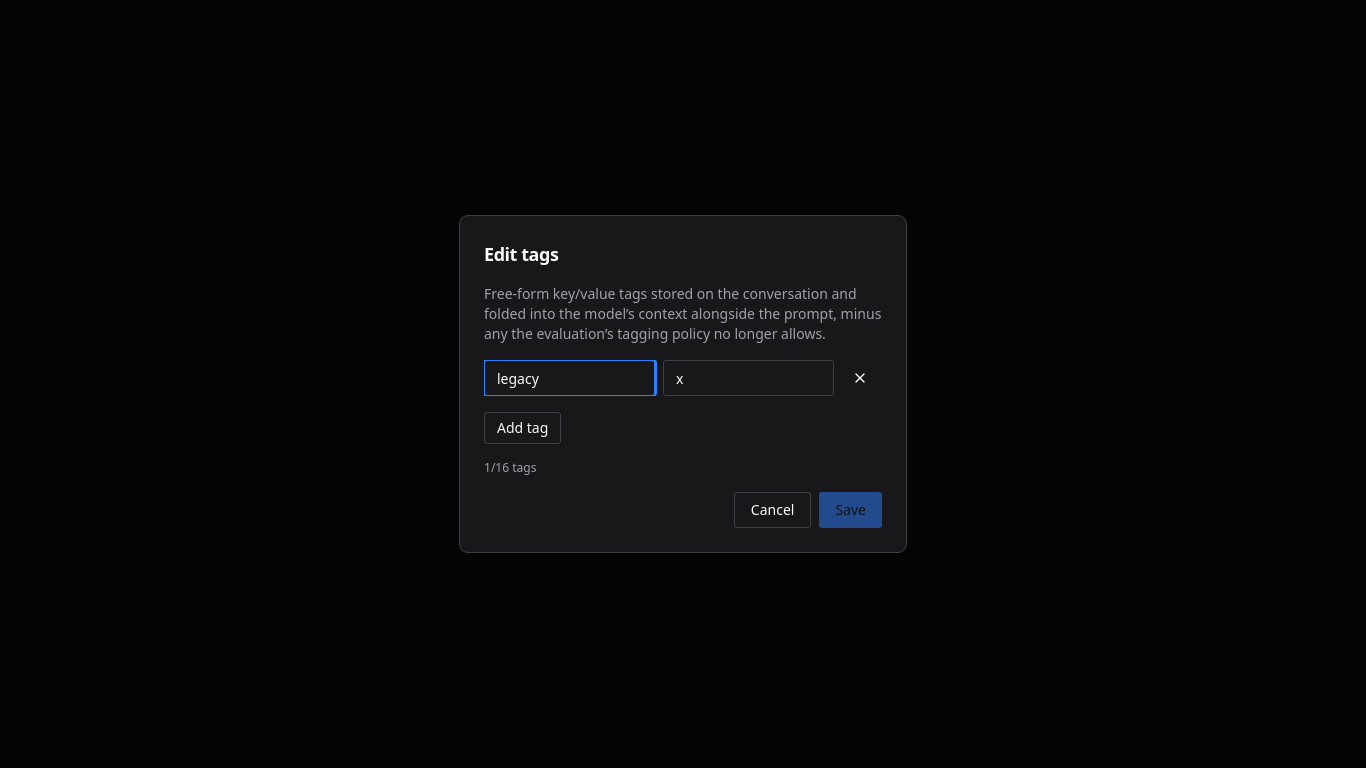
it: EditTagsDialog — what a failure says › reports a validation failure once — inline, with no toast beside it
The width and height of the screenshot is (1366, 768).
Replace the text in the field named "Tag 1 value" with "y" at (748, 378), box [663, 360, 834, 396]
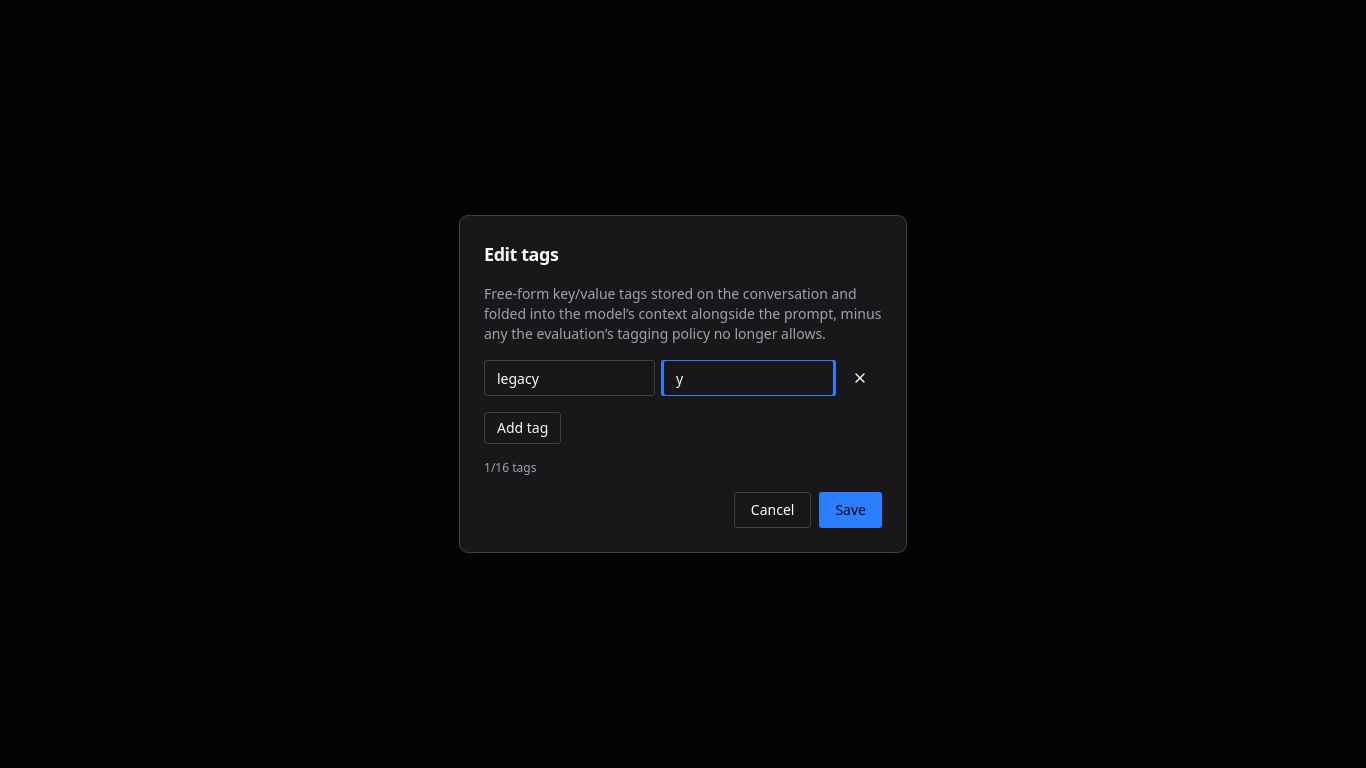
Click the button "Save" at (851, 510), box [819, 492, 882, 528]
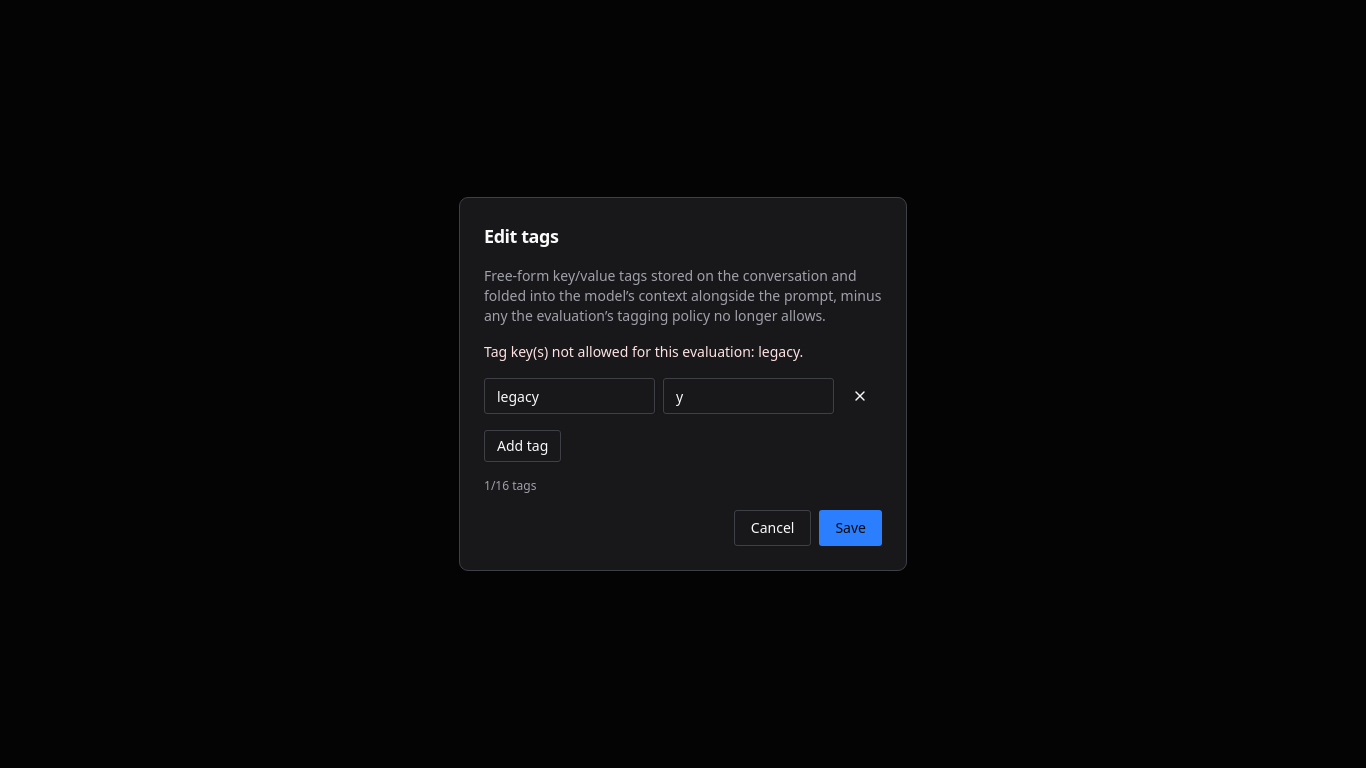
Now the text "Tag key(s) not allowed for this evaluation: legacy." is shown, box [484, 342, 803, 361]
